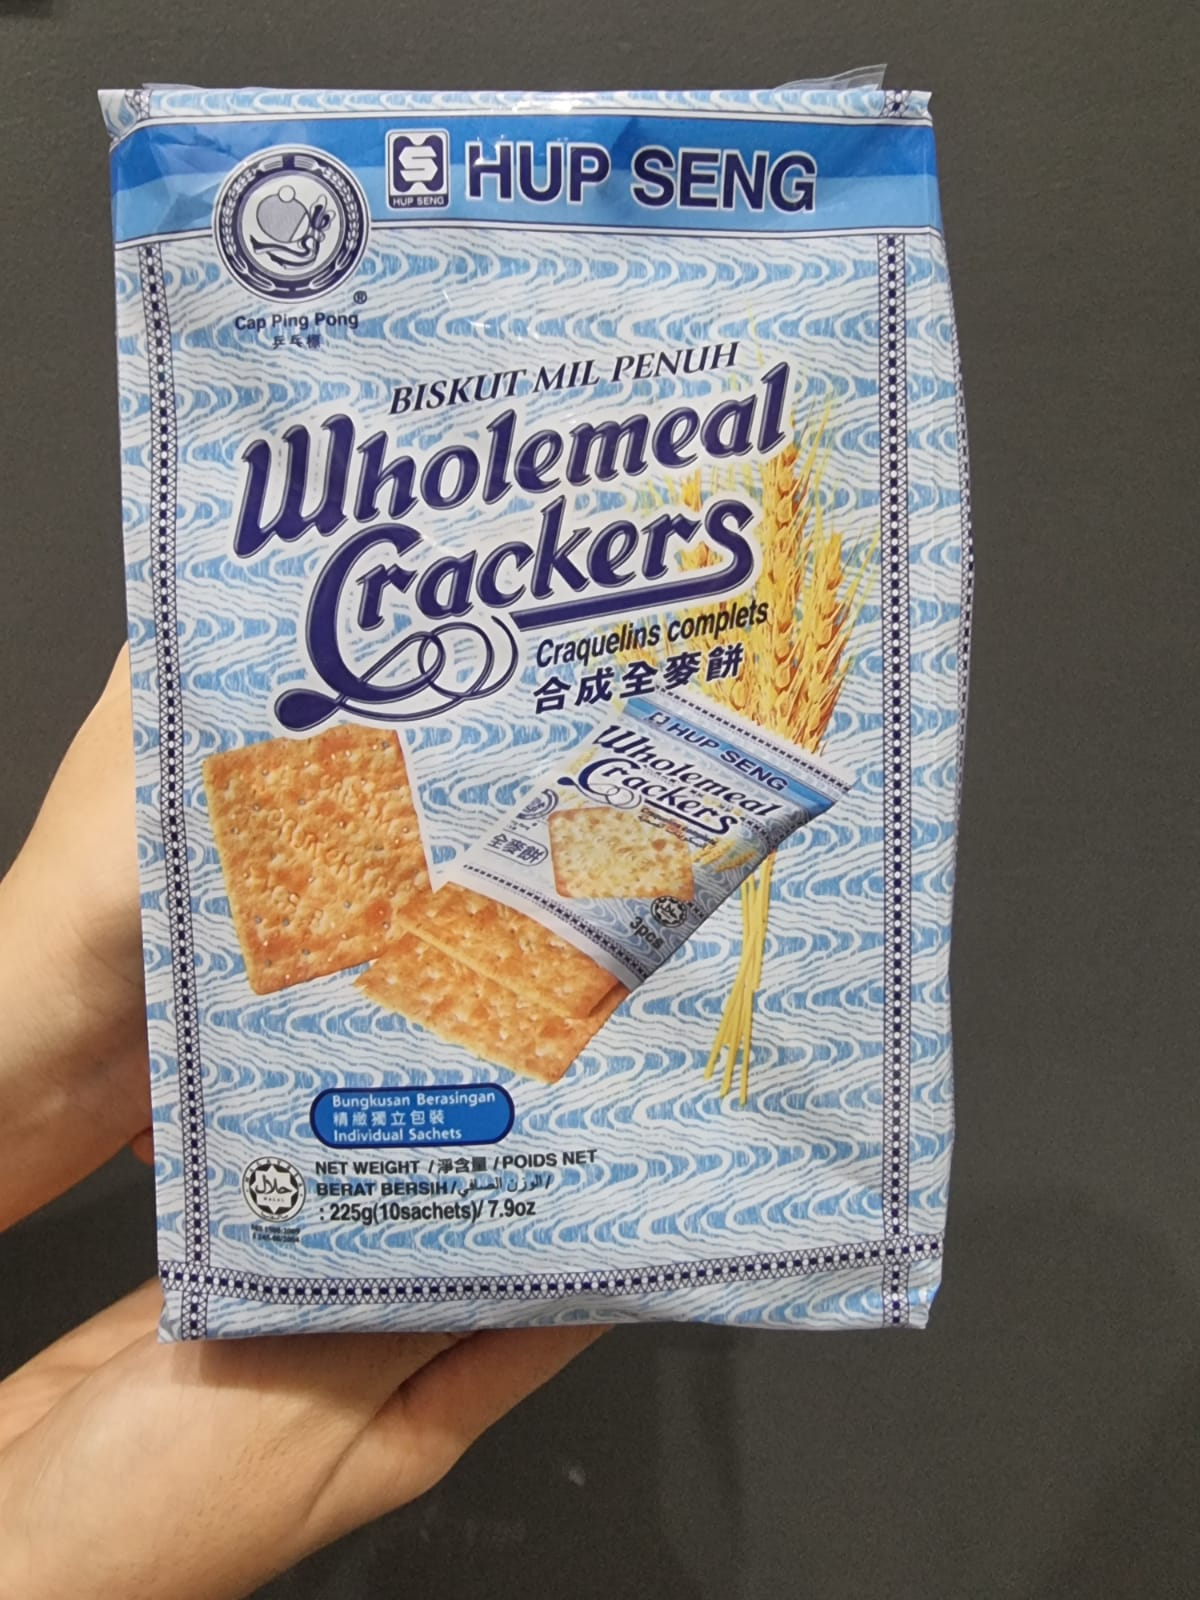Biscuits: (169, 123, 942, 1301)
